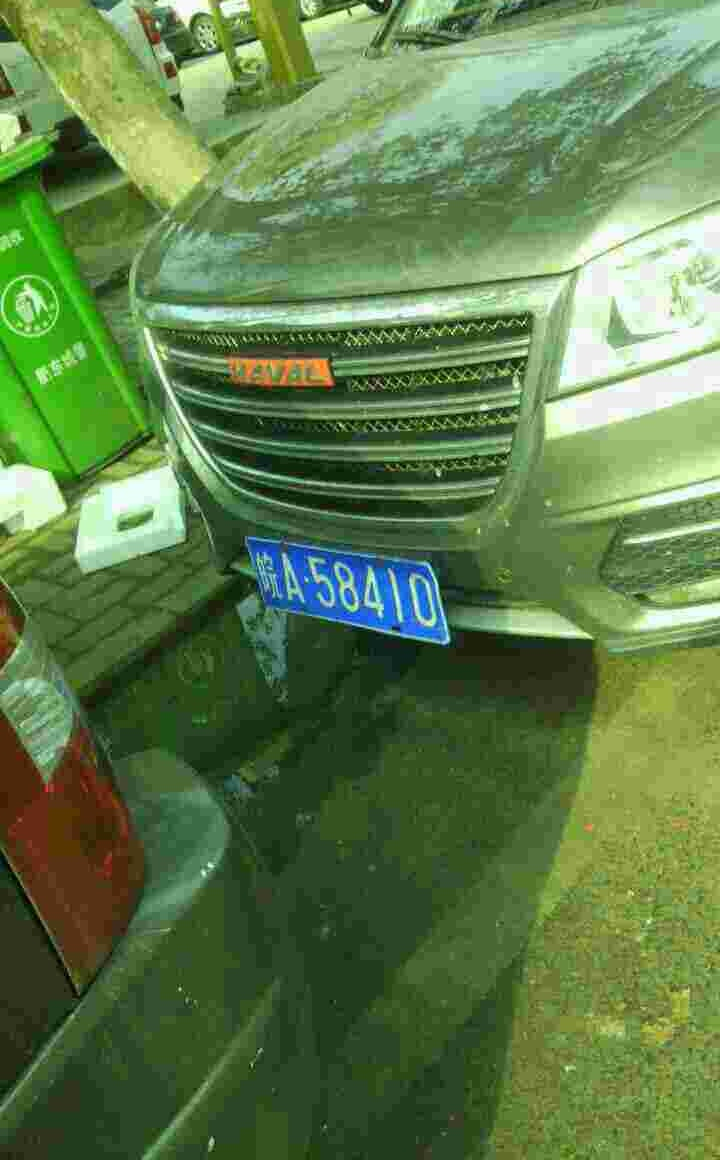car: (246, 541, 453, 640)
